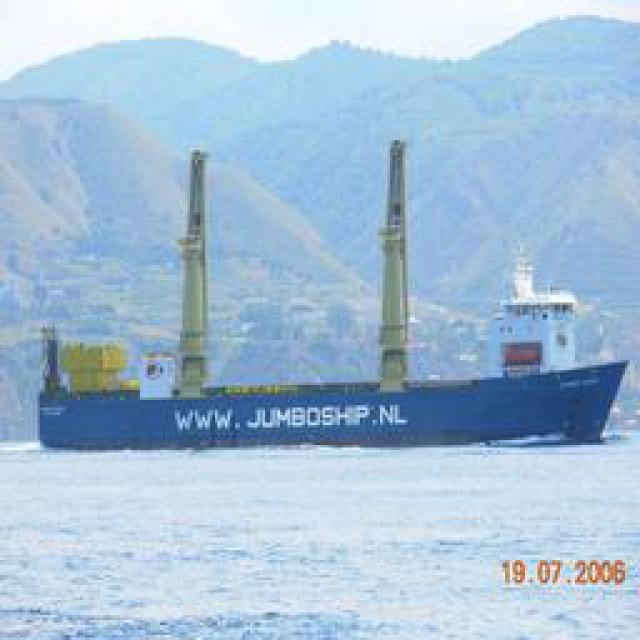Ship: (18, 133, 632, 464)
